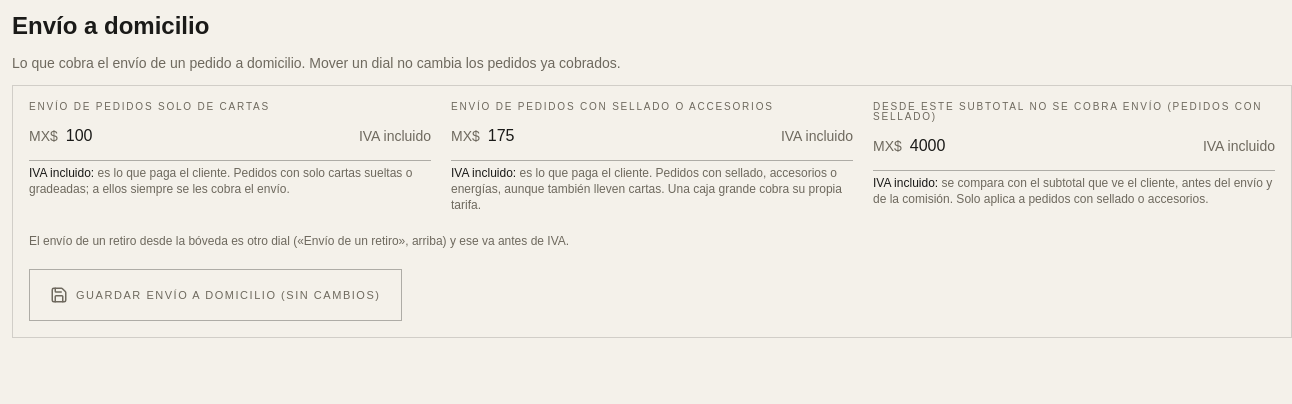
§4-G.12 · diales del envío a domicilio en M10 › 422 VALIDATION_ERROR por clave ⇒ el campo se marca y el aviso dice que no se guardó nada
Replace the text in the field labelled "Desde este subtotal no se cobra envío (pedidos con sellado)" with "0" at (1052, 146), box x1=910 y1=134 x2=1195 y2=158
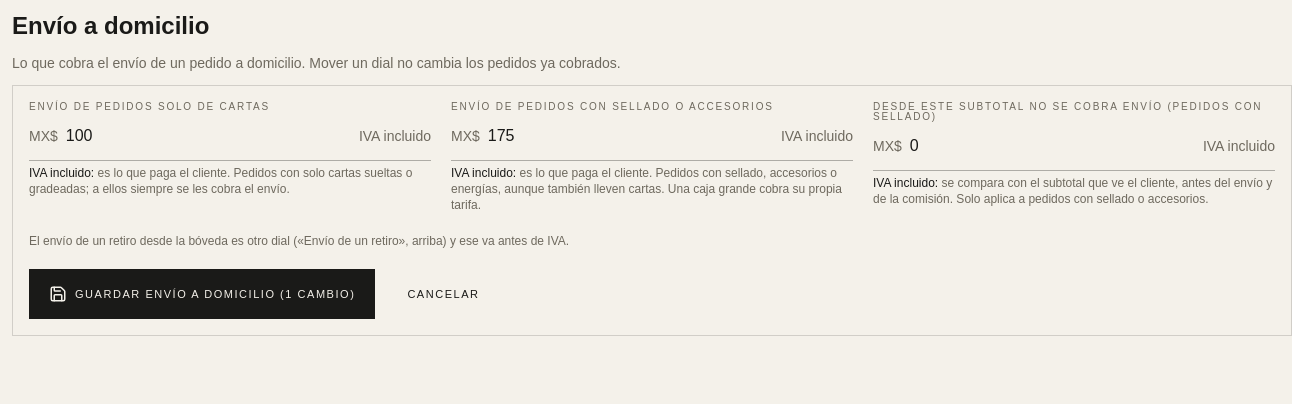
Click the button with test id "m10-direct-ship-save" at (202, 294), box x1=29 y1=269 x2=375 y2=319
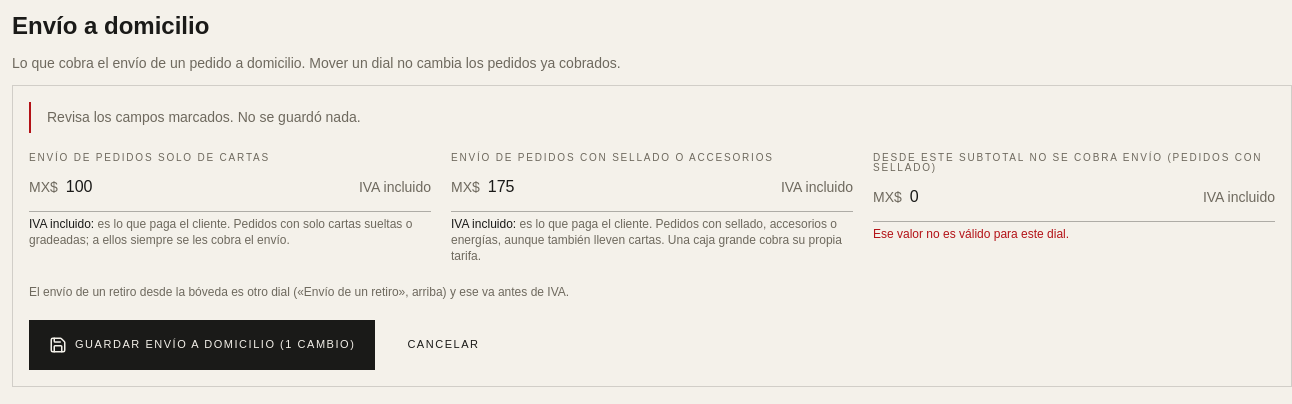
Expected: the message reads "Revisa los campos marcados. No se guardó nada.", x1=47 y1=109 x2=361 y2=125
